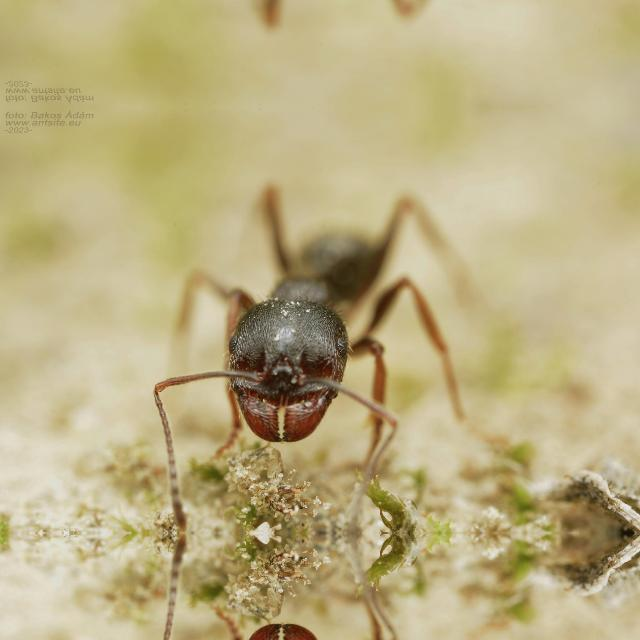Messor: (185, 216, 447, 454)
